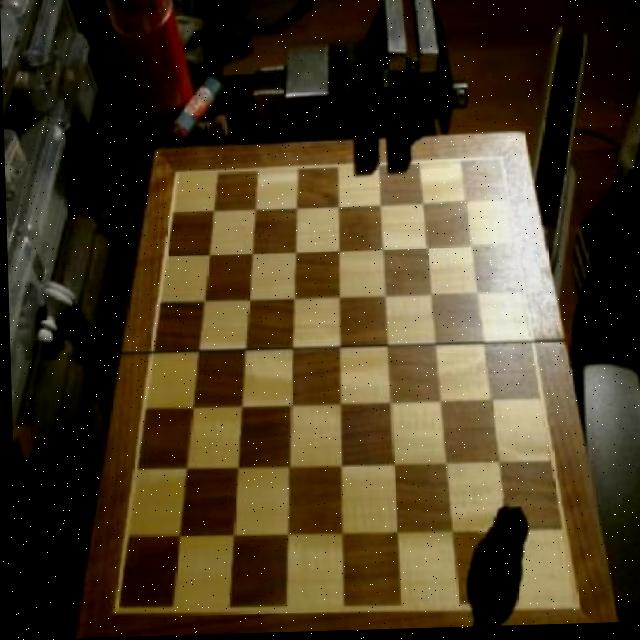black-bishop: (474, 501, 528, 605)
